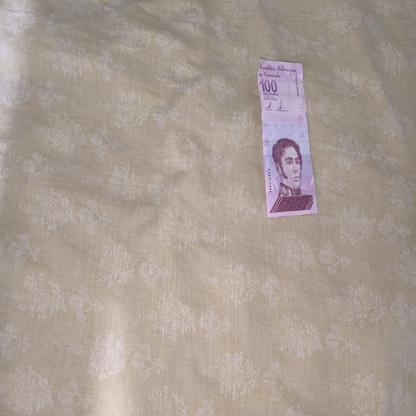one_hundred-front-vef: (258, 56, 318, 218)
